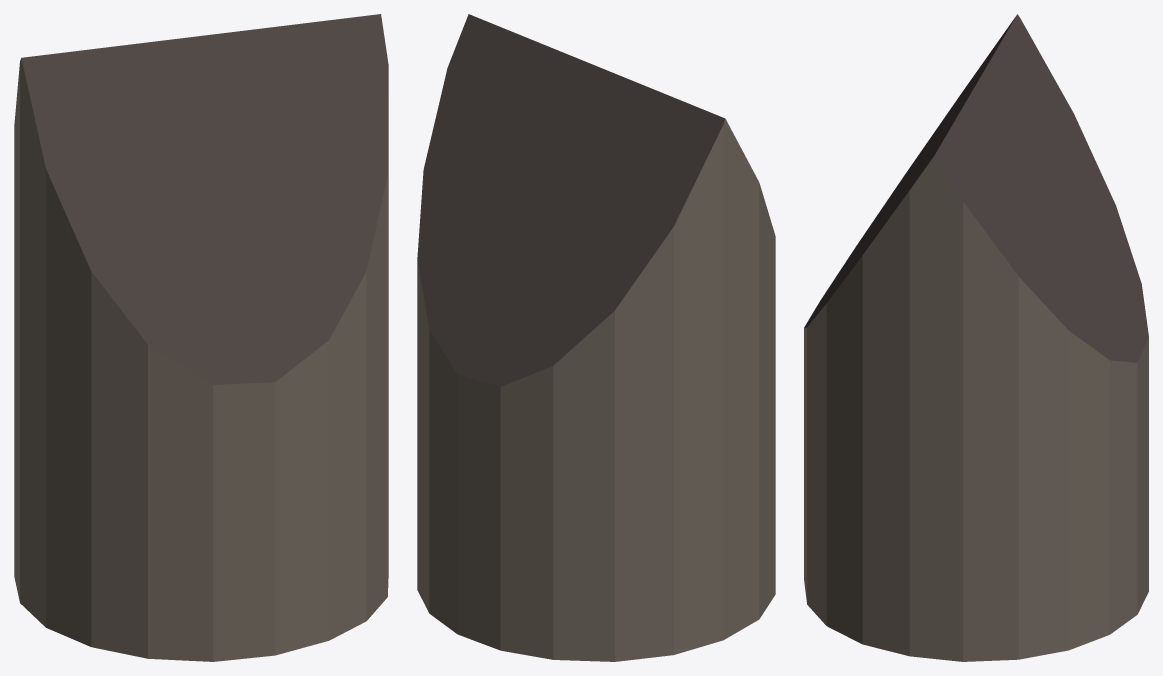
3 views of the same model, side by side, from view 1: azimuth 30°, elevation 25°; view 2: azimuth 150°, elevation 25°; view 3: azimuth 270°, elevation 25° (orthographic). The views are drawn at different scales.
Parts seen in each view (by area): view 1: HP-w428196085; view 2: HP-w428196085; view 3: HP-w428196085.
Boxes of the visible parts, x1,y1,x2,y2 form: HP-w428196085: (14,14,388,661); HP-w428196085: (417,14,775,661); HP-w428196085: (804,14,1148,661).
Size of the model in its own units: 3.75 by 6 by 3.73.
